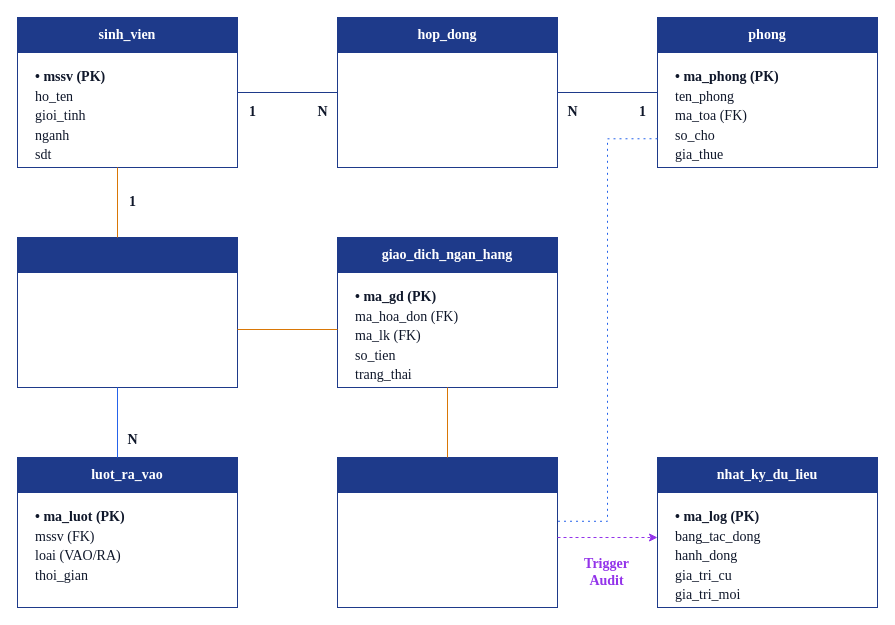
The diagram is 895 pixels wide and 625 high, and some of its shapes have lost their labels. Each missing label, with the centre of its shape:
hoa_don: pixel 447 474
tai_khoan_ngan_hang_sv: pixel 127 254
• ma_hoa_don (PK) ma_phong (FK) loai_hoa_don so_tien trang_thai: pixel 447 550
• ma_hop_dong (PK) mssv (FK) ma_phong (FK) ngay_bat_dau: pixel 447 110
• ma_lk (PK) mssv (FK) ngan_hang so_du_sandbox: pixel 127 330
